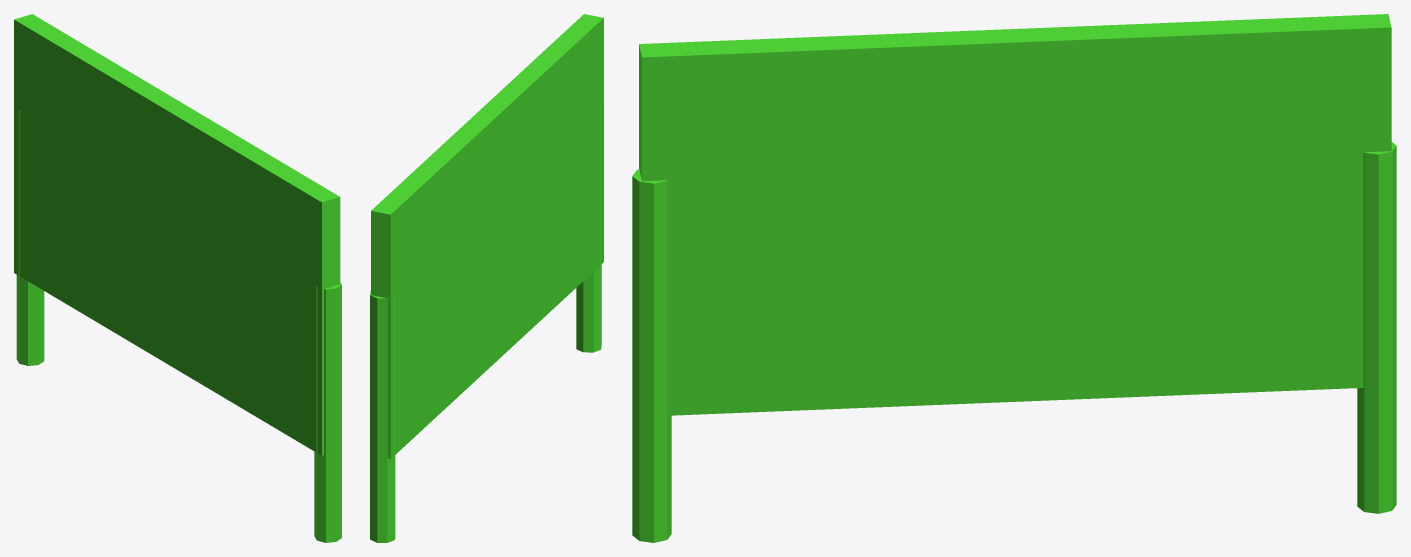
File: cylinder.002.002_lev3.glb
3 views of the same model, side by side, from view 1: azimuth 30°, elevation 25°; view 2: azimuth 150°, elevation 25°; view 3: azimuth 270°, elevation 25° (orthographic). The views are drawn at different scales.
Visible parts, largest first — view 1: cylinder.002.002_lev3; view 2: cylinder.002.002_lev3; view 3: cylinder.002.002_lev3.
Boxes of the visible parts, bbox=[...] form: cylinder.002.002_lev3: bbox=[14, 14, 341, 542]; cylinder.002.002_lev3: bbox=[370, 14, 603, 542]; cylinder.002.002_lev3: bbox=[632, 14, 1396, 542].
Size of the model in its own units: 1.03 by 5.04 by 7.23.
